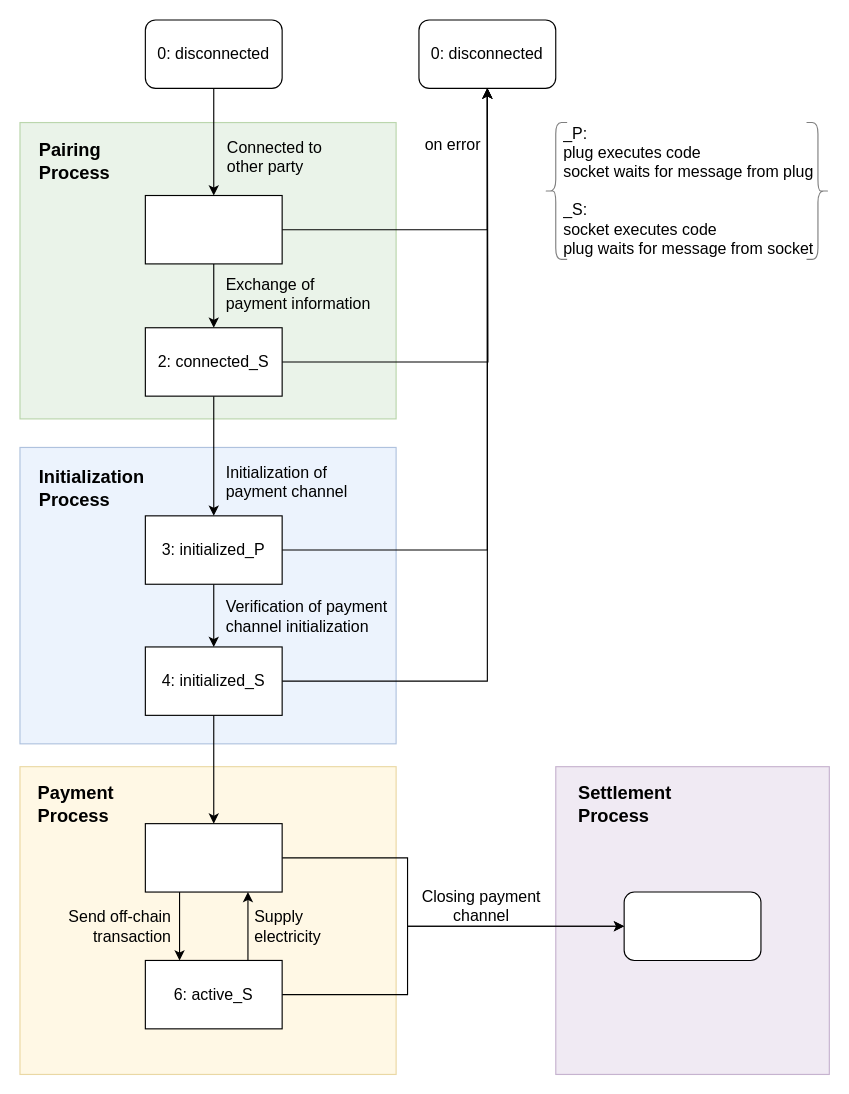
The diagram is 849 pixels wide and 1094 high, and some of its shapes have lost their labels. The shapes that lost their labels are listed below. From the top down, each one's centre as x and y in pixels, then its label:
At (213,229): "1: connected_P".
At (213,857): "5: active_P".
At (692,925): "7: closed".
